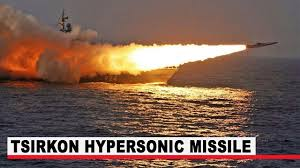ten_lua: (228, 32, 281, 54)
